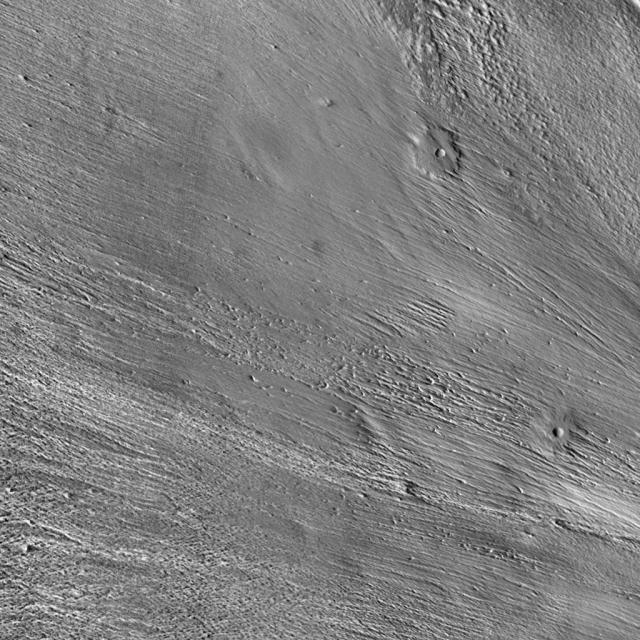crater: (554, 428, 565, 439), (435, 151, 445, 161)
